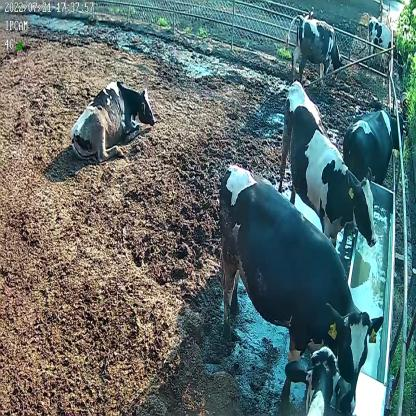cow: (218, 168, 386, 416), (280, 80, 377, 251), (72, 80, 157, 161), (343, 108, 408, 186), (283, 14, 343, 86)
